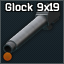Glock 9x19 Double Diamond threaded barrel: (0, 0, 64, 64)
